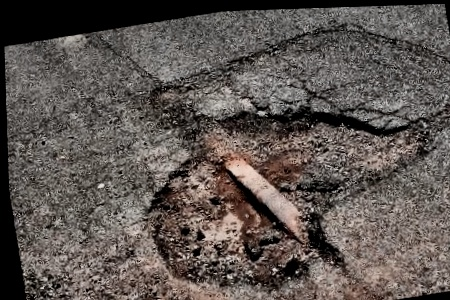pothole: (126, 77, 450, 300)
